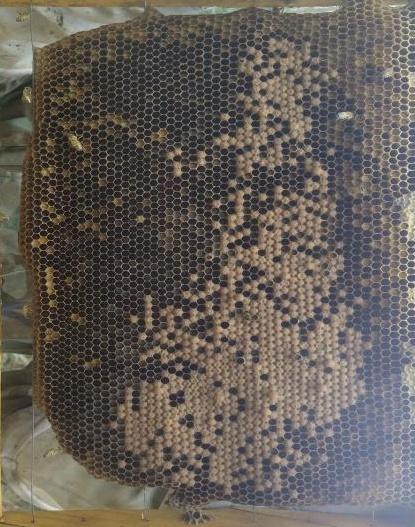cria: (75, 35, 375, 508)
